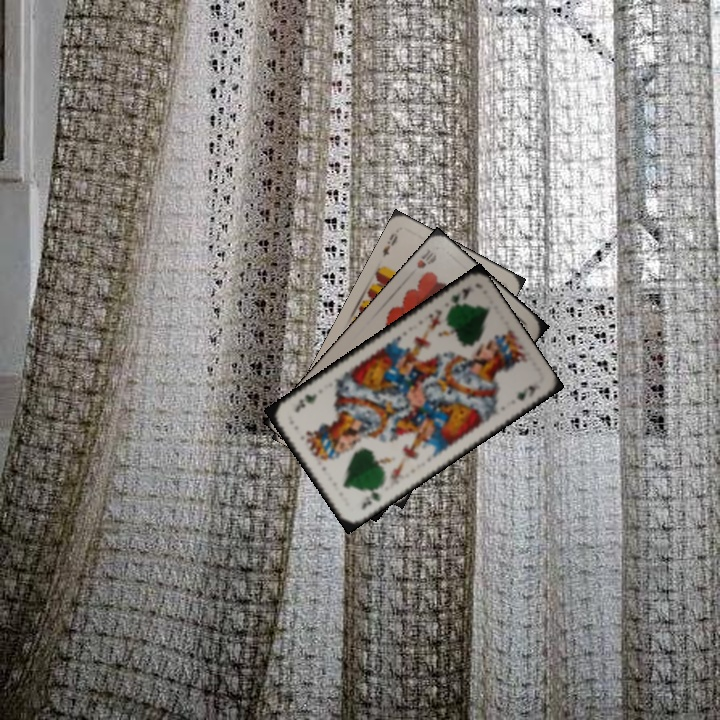E9: (378, 229, 400, 260)
GK: (443, 283, 474, 313), (357, 482, 384, 513)
H10: (413, 245, 439, 271)
